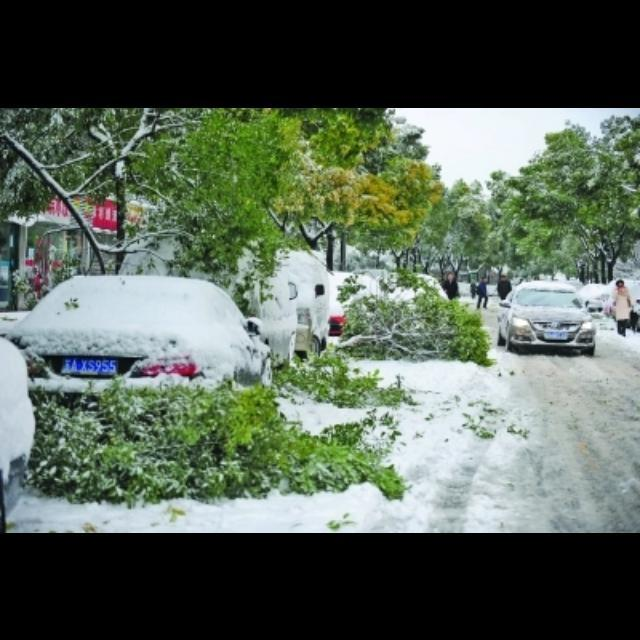fallen_tree: (1, 111, 273, 303), (28, 374, 388, 510), (293, 265, 489, 375)
